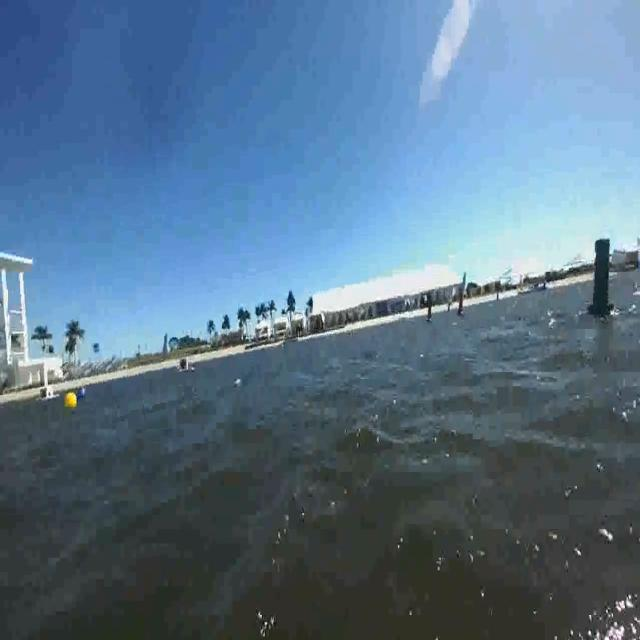green-column-buoy: (588, 234, 616, 318)
yellow-buoy: (66, 390, 78, 410)
